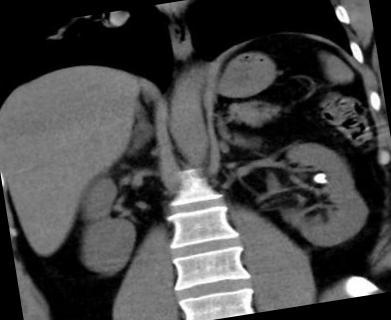Tas_Var: (312, 170, 327, 187)
